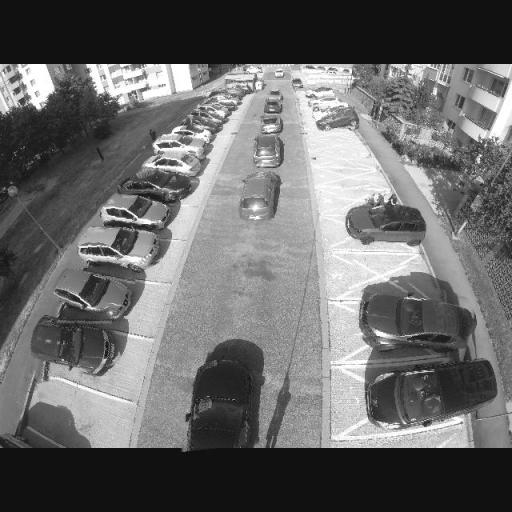busy: (352, 277, 475, 355), (174, 350, 261, 450), (26, 310, 120, 380), (50, 269, 134, 318), (70, 225, 160, 268), (345, 206, 428, 246), (232, 172, 278, 224), (98, 194, 168, 227), (118, 171, 191, 199), (142, 148, 206, 176), (150, 133, 207, 155), (314, 111, 360, 134), (250, 138, 284, 168), (312, 98, 354, 120), (186, 109, 224, 129), (257, 114, 282, 138), (264, 98, 282, 116), (308, 86, 336, 96)
free: (224, 240, 274, 333), (349, 261, 411, 296), (54, 407, 108, 438), (336, 188, 370, 210), (333, 148, 360, 169), (340, 178, 370, 192), (331, 131, 351, 146)
